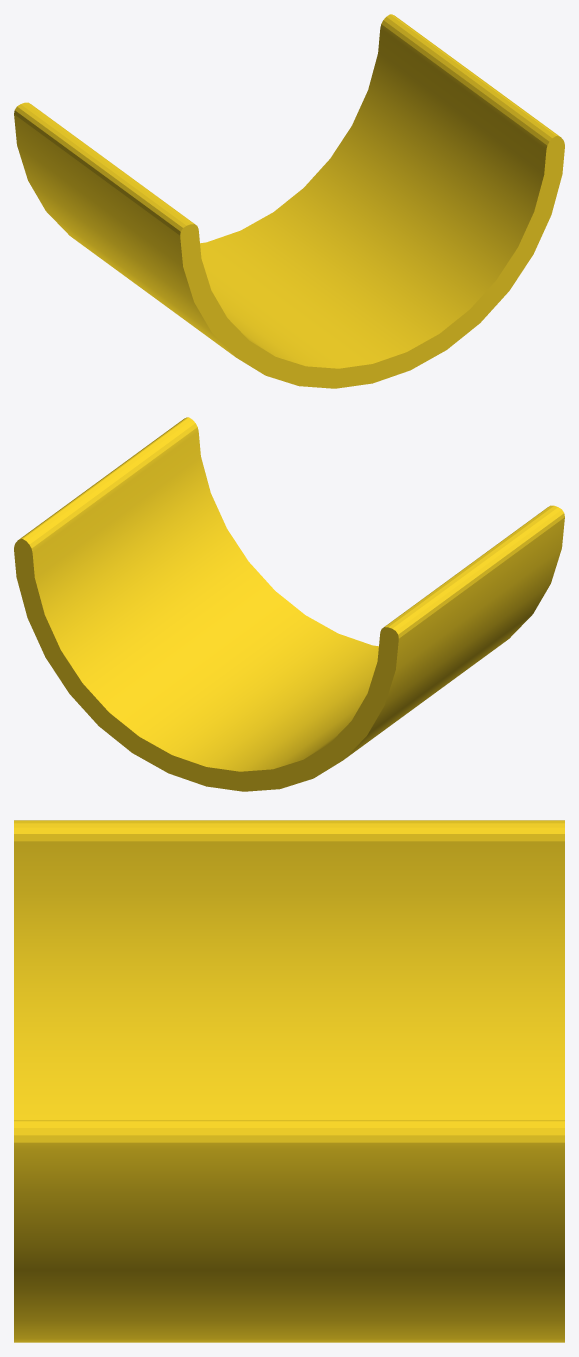
Rendered from sarıboru.fbx.
The picture shows the model from 3 angles, top to bottom: view 1: azimuth 30°, elevation 25°; view 2: azimuth 150°, elevation 25°; view 3: azimuth 270°, elevation 25°; orthographic projection. The views are drawn at different scales.
Parts seen in each view (by area): view 1: Cylinder.002; view 2: Cylinder.002; view 3: Cylinder.002.
Boxes of the visible parts, <box> form: Cylinder.002: <box>14,14,564,388</box>; Cylinder.002: <box>14,417,564,791</box>; Cylinder.002: <box>14,820,564,1342</box>.
Bounding box in the file's own units: 165 × 83.24 × 123.
